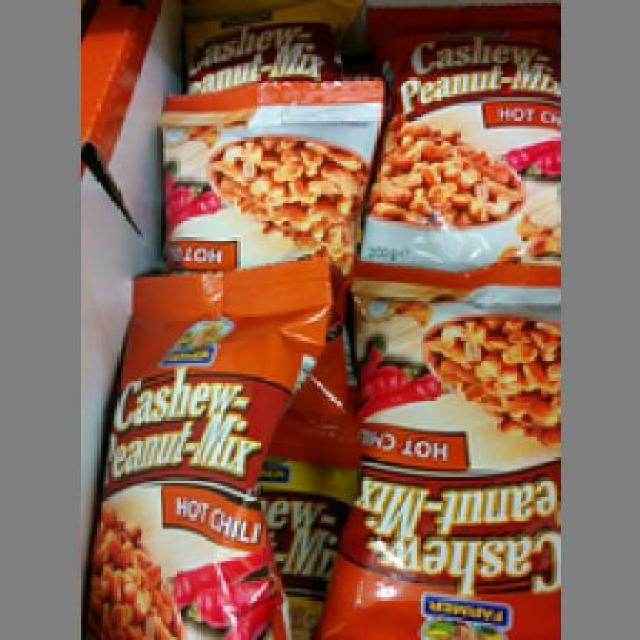Nuts: (80, 252, 326, 638), (337, 274, 557, 637), (354, 0, 557, 277), (150, 77, 387, 266)
